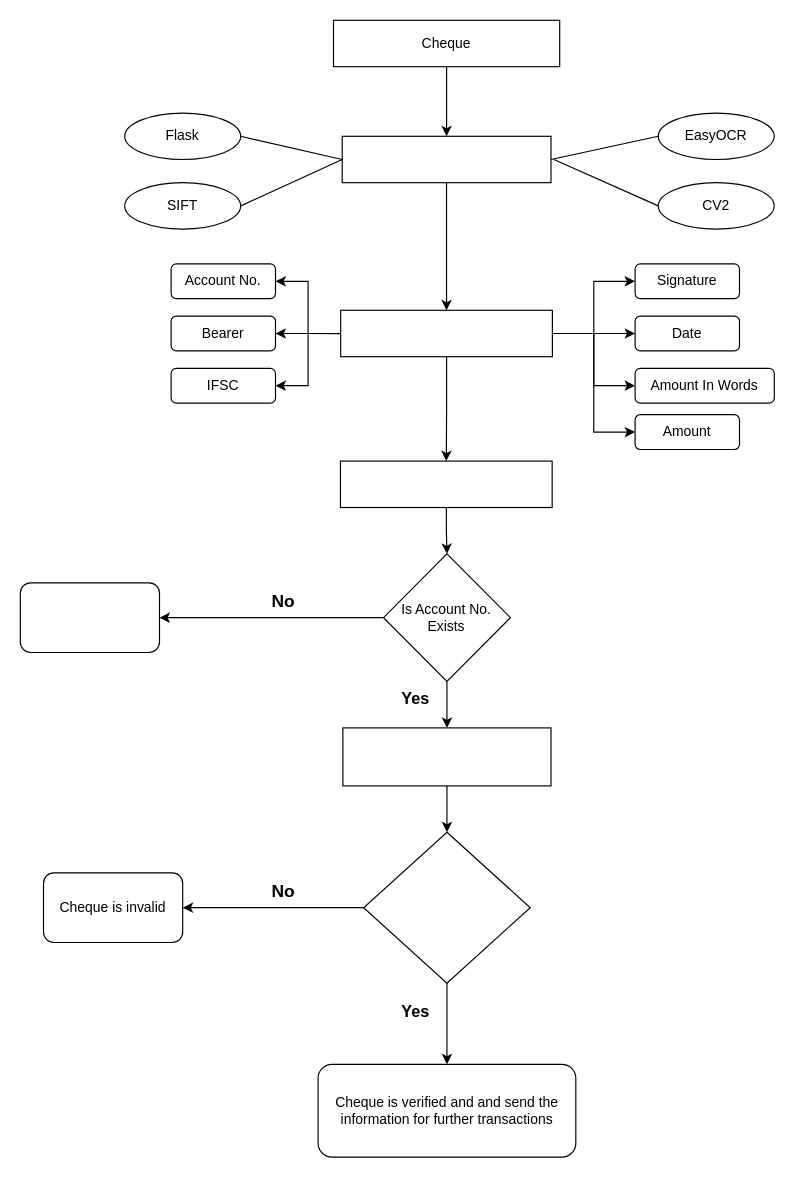
Some shapes in this 795 by 1177 pixel diagram are drawn without their labels. Here are the shapes that lost their labels. From the top down, the centre of each, then its label:
At [446,159]: "Server".
At [446,333]: "Extract Cheque Information".
At [445,483]: "Cross Check Account No. with verified user".
At [89,617]: "Customer does not exist".
At [446,756]: "Signature verification by using SIFT algorithm".
At [446,907]: "Is Signature Verified".
